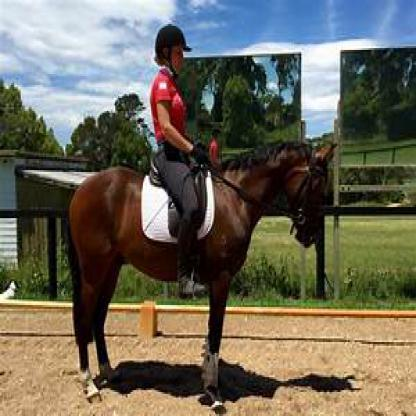horse: (66, 141, 340, 414)
